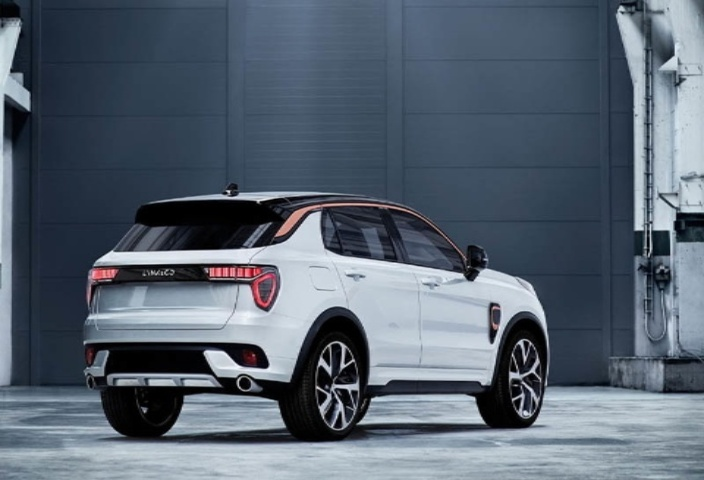camper: (69, 179, 557, 450)
